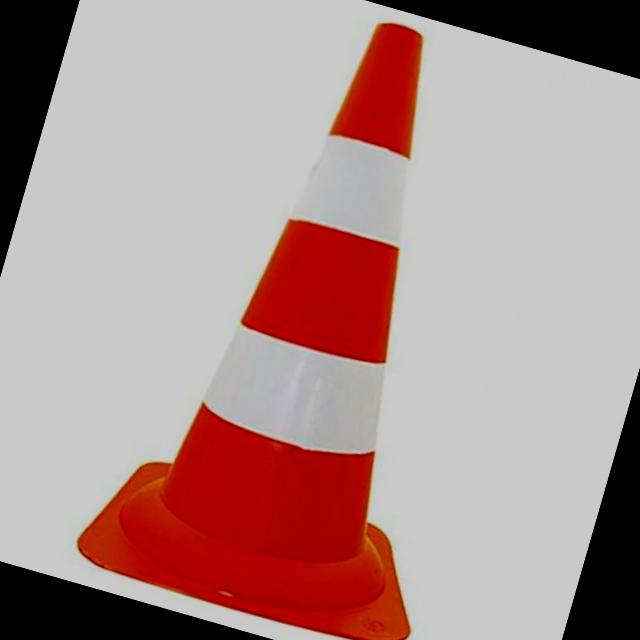cone: (84, 0, 560, 640)
